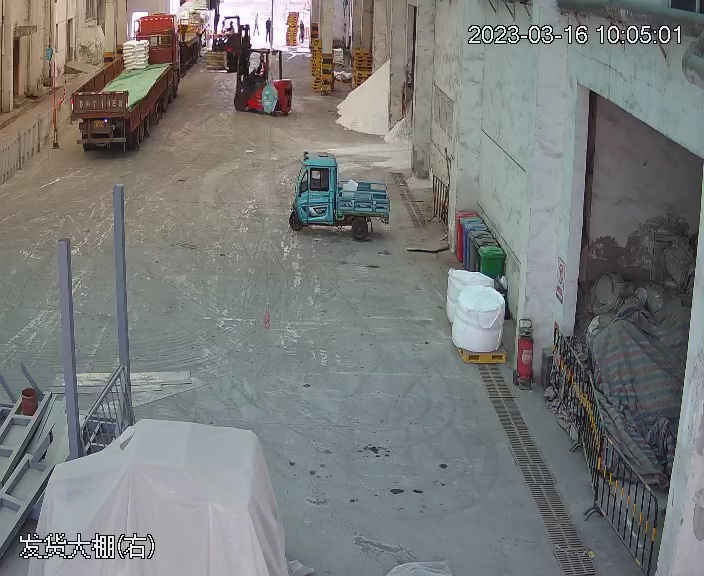truck: (64, 9, 191, 158)
